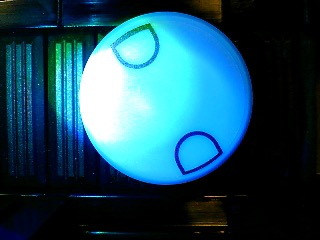MIPO2: (80, 11, 253, 185)
